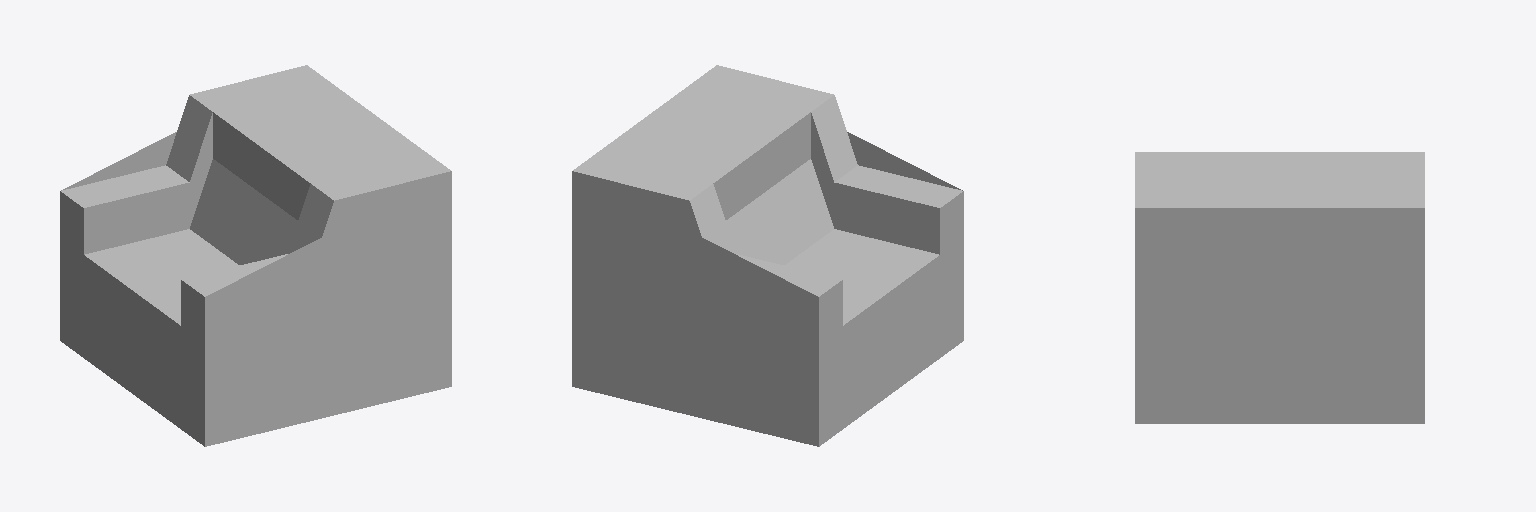
Rendered from thrown_1.obj.
3 renders of one model, left to right at view 1: azimuth 30°, elevation 25°; view 2: azimuth 150°, elevation 25°; view 3: azimuth 270°, elevation 25°, orthographic.
Parts seen in each view (by area): view 1: Cube; view 2: Cube; view 3: Cube.
Boxes of the visible parts, x1=… form: Cube: x1=60, y1=65, x2=451, y2=446; Cube: x1=572, y1=65, x2=963, y2=446; Cube: x1=1135, y1=152, x2=1424, y2=423.
Size of the model in its own units: 2.39 by 2 by 2.43.